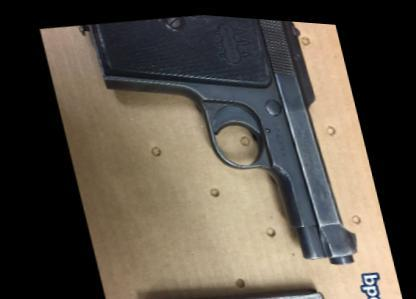pistol: (76, 4, 361, 292)
